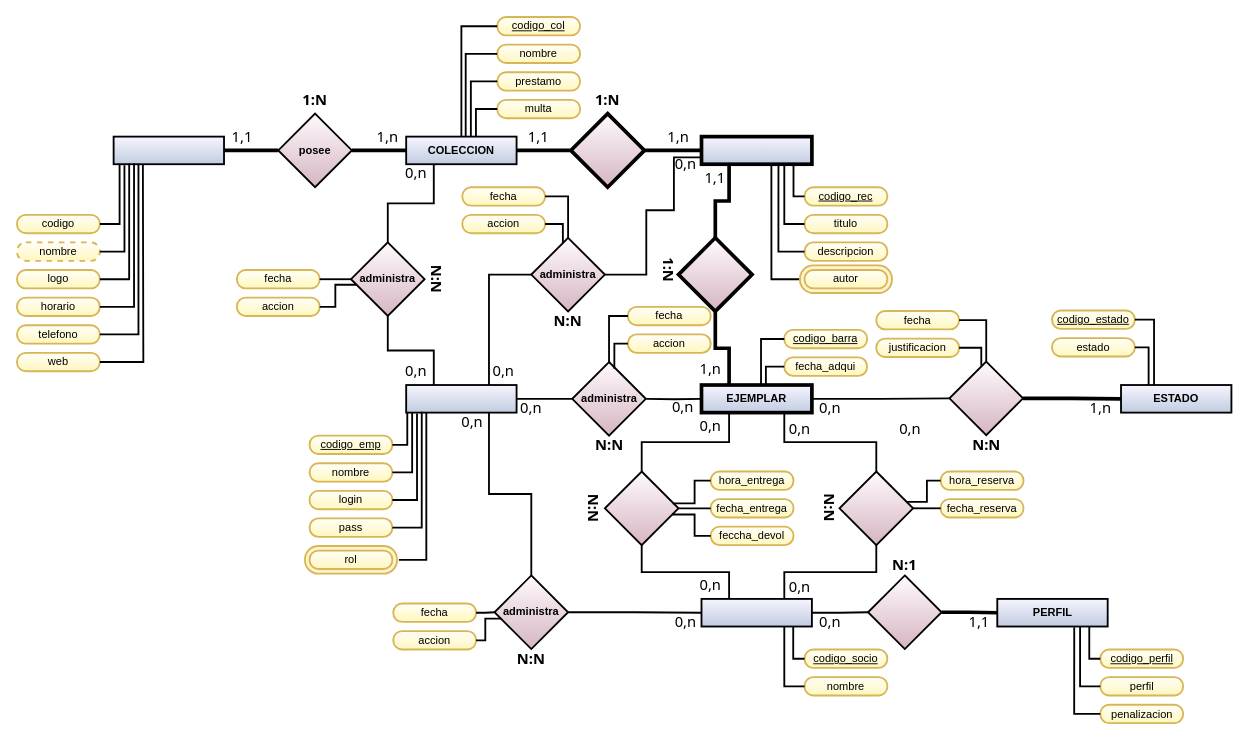
The diagram is 1248 pixels wide and 740 high, and some of its shapes have lost their labels. Here are the shapes that lost their labels. From the top down, the centre of each, then its label:
At (168,150): "BIBLIOTECA".
At (607,150): "se divide en".
At (756,150): "RECURSO".
At (714,274): "tiene".
At (461,398): "EMPLEADO".
At (986,398): "conserva".
At (641,508): "presta".
At (876,508): "reserva".
At (756,612): "SOCIO".
At (904,612): "se clasifica con".
